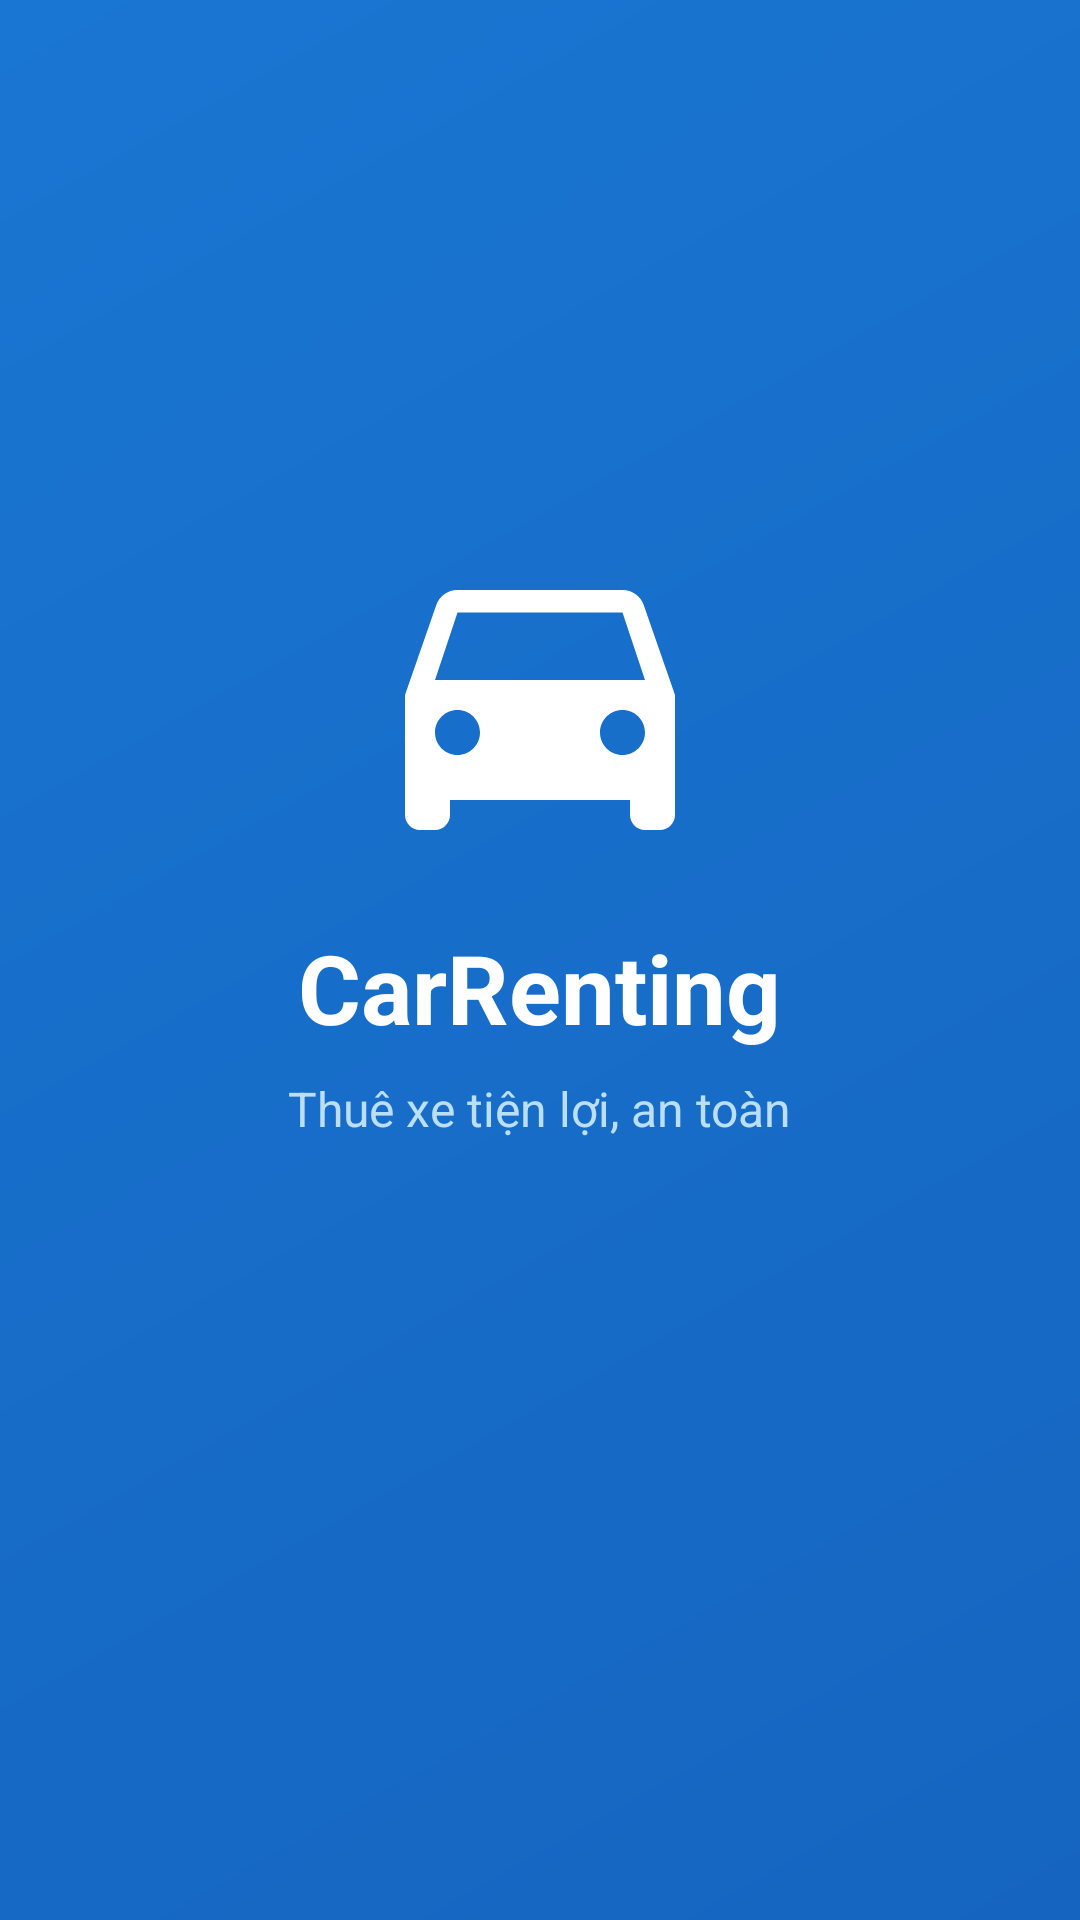

Where icons sit on this 1080w x 1920h app screen, as bbox=(x1, y1, x2, y2):
car: bbox=(405, 590, 675, 830)
